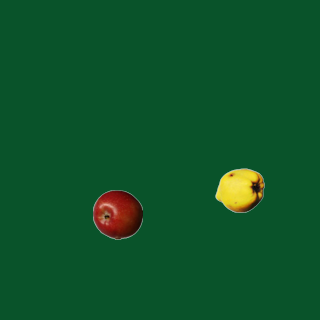Apple Braeburn: (92, 189, 142, 239)
Quince: (214, 165, 264, 215)
